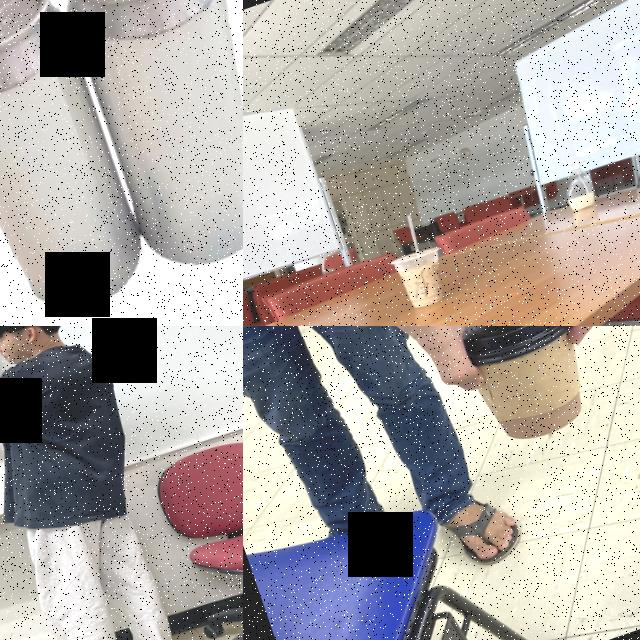can: (45, 0, 243, 284), (0, 0, 152, 326)
cup: (447, 326, 609, 453), (382, 235, 460, 312)
